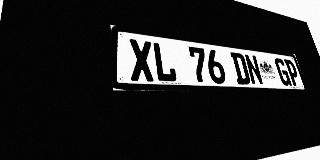6: (204, 49, 227, 84)
7: (187, 46, 211, 83)
D: (230, 52, 251, 85)
G: (274, 58, 292, 86)
L: (152, 42, 178, 82)
N: (244, 54, 264, 85)
P: (284, 59, 302, 86)
X: (128, 39, 155, 82)
